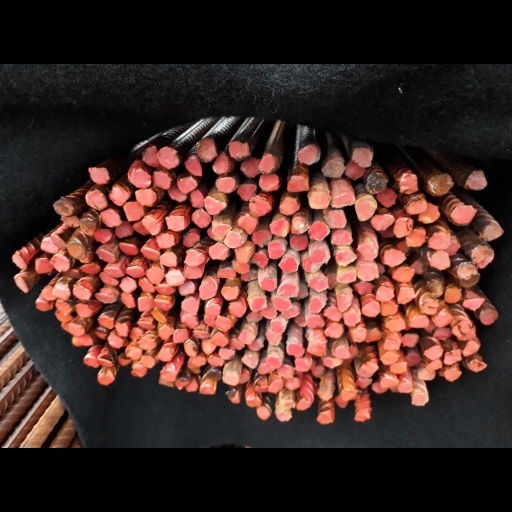dipstick: (451, 262, 481, 288), (426, 173, 454, 195), (79, 207, 101, 235), (449, 204, 478, 225), (194, 137, 218, 162), (469, 245, 494, 268), (418, 201, 441, 225), (355, 197, 377, 222), (435, 235, 461, 256), (321, 157, 345, 179), (427, 249, 451, 271), (331, 187, 356, 208), (211, 151, 232, 176), (355, 260, 380, 281), (365, 172, 387, 195), (239, 156, 261, 179), (157, 146, 179, 169), (248, 195, 272, 216), (403, 196, 429, 215), (298, 144, 320, 166), (376, 186, 398, 208), (397, 173, 420, 194), (300, 252, 323, 273), (127, 169, 151, 189), (228, 140, 250, 161), (352, 146, 373, 168), (465, 170, 487, 191), (393, 217, 415, 238), (237, 212, 258, 234), (85, 189, 107, 210), (142, 145, 162, 168), (123, 201, 146, 221), (52, 196, 75, 216), (427, 232, 451, 251), (382, 248, 406, 267), (370, 213, 395, 231), (183, 155, 204, 176), (405, 227, 426, 248), (433, 307, 454, 328), (109, 184, 130, 205), (257, 152, 277, 174), (345, 160, 367, 180), (204, 196, 226, 216), (324, 210, 347, 229), (87, 166, 110, 185), (336, 287, 353, 312), (190, 208, 211, 228), (308, 191, 331, 209), (236, 183, 259, 201), (286, 175, 310, 192), (330, 229, 354, 246), (95, 288, 119, 305), (291, 214, 311, 234), (141, 215, 161, 235), (279, 197, 300, 216), (268, 218, 289, 237), (443, 283, 462, 304), (308, 222, 330, 240), (356, 242, 378, 260), (451, 319, 473, 337), (258, 174, 281, 191), (392, 266, 415, 283), (134, 189, 157, 206), (65, 242, 88, 259), (152, 171, 172, 190), (50, 253, 70, 272), (482, 224, 503, 242), (375, 285, 396, 303), (361, 300, 382, 318), (309, 245, 330, 263), (100, 208, 121, 226), (333, 250, 358, 265), (176, 176, 198, 193), (462, 295, 484, 312), (322, 305, 344, 322), (335, 268, 358, 284), (356, 361, 379, 377), (187, 189, 206, 208), (396, 286, 415, 305), (166, 267, 185, 286), (419, 298, 439, 316), (289, 233, 309, 251), (167, 185, 188, 202), (324, 322, 345, 339), (423, 344, 444, 361), (293, 355, 314, 372), (184, 249, 205, 266), (165, 215, 186, 232), (34, 257, 55, 274), (215, 177, 237, 193), (426, 278, 444, 297), (480, 307, 498, 326), (343, 308, 361, 327), (266, 241, 285, 259), (208, 242, 227, 260), (347, 326, 366, 344), (180, 295, 198, 314), (182, 228, 200, 247), (53, 282, 71, 301), (72, 283, 91, 301), (309, 275, 329, 292), (250, 251, 270, 268), (180, 312, 200, 329), (60, 323, 86, 336), (323, 266, 337, 290), (277, 282, 298, 298), (154, 293, 175, 309), (94, 248, 116, 263), (225, 230, 243, 248), (124, 343, 142, 361), (119, 275, 137, 293), (159, 251, 178, 268), (40, 236, 59, 253), (384, 318, 407, 332), (352, 281, 375, 295), (79, 262, 102, 276), (278, 257, 298, 273), (251, 230, 271, 246), (237, 329, 257, 345), (227, 301, 247, 317), (183, 263, 203, 279), (211, 223, 232, 238), (305, 313, 326, 328), (155, 233, 176, 248), (98, 271, 119, 286), (433, 327, 455, 341), (408, 314, 430, 328), (466, 359, 488, 373), (321, 355, 343, 369), (234, 246, 252, 263), (462, 340, 480, 357), (264, 330, 282, 347), (198, 379, 216, 396), (13, 276, 30, 294), (137, 277, 155, 294), (146, 267, 164, 284), (49, 232, 67, 249), (182, 339, 198, 358), (198, 283, 217, 299), (115, 222, 134, 238), (97, 370, 116, 386), (382, 337, 402, 352), (285, 343, 305, 358), (294, 307, 309, 327), (272, 296, 292, 311), (140, 246, 160, 261), (442, 368, 463, 382), (379, 351, 400, 365), (340, 387, 361, 401), (444, 349, 461, 366), (404, 350, 421, 367), (225, 387, 242, 404), (409, 258, 427, 274), (259, 275, 277, 291), (211, 332, 229, 348), (214, 315, 232, 331), (177, 279, 195, 295), (107, 330, 123, 348), (137, 296, 155, 312), (93, 228, 111, 244), (154, 282, 176, 295), (231, 259, 250, 274), (353, 407, 372, 422), (316, 410, 335, 425), (132, 220, 151, 235), (35, 296, 54, 311), (96, 314, 115, 329), (307, 342, 327, 356), (389, 361, 409, 375), (280, 304, 300, 318), (248, 296, 268, 310), (221, 286, 241, 300), (191, 328, 211, 342), (118, 242, 138, 256), (308, 296, 324, 313), (365, 327, 382, 343), (255, 404, 271, 421), (257, 358, 274, 374), (131, 362, 148, 378), (151, 307, 168, 323), (276, 363, 294, 378), (259, 304, 277, 319), (221, 370, 239, 385), (227, 336, 245, 351), (75, 303, 93, 318), (379, 301, 398, 315), (332, 345, 351, 359), (316, 387, 335, 401), (274, 408, 293, 422), (138, 337, 157, 351), (71, 334, 93, 346), (417, 368, 437, 381), (380, 375, 400, 388), (267, 379, 287, 392), (59, 215, 79, 228), (113, 321, 129, 337), (120, 292, 136, 308), (293, 283, 308, 300), (402, 333, 419, 348), (269, 319, 286, 334), (186, 357, 201, 374), (172, 328, 189, 343), (11, 254, 28, 269), (237, 368, 251, 386), (55, 300, 73, 314), (240, 355, 259, 368), (126, 265, 145, 278), (103, 267, 125, 278), (423, 319, 439, 334), (253, 378, 269, 393), (158, 325, 173, 341), (40, 285, 56, 300), (157, 348, 174, 362), (410, 393, 428, 406), (370, 381, 388, 394), (355, 376, 373, 389), (244, 395, 262, 408), (208, 354, 226, 367), (218, 346, 236, 359), (216, 267, 235, 279), (183, 378, 198, 393), (201, 339, 216, 354), (118, 352, 133, 367), (333, 394, 349, 408), (396, 381, 413, 394), (265, 356, 282, 369), (246, 310, 263, 323), (204, 304, 221, 317), (139, 355, 156, 368), (128, 327, 145, 340), (425, 359, 443, 371), (246, 339, 264, 351), (159, 369, 177, 381), (280, 395, 295, 409), (202, 313, 217, 327), (136, 320, 157, 330), (93, 326, 109, 339), (240, 269, 257, 281), (54, 312, 74, 322), (296, 397, 310, 411), (312, 363, 325, 378), (285, 378, 301, 390), (82, 357, 99, 368), (156, 379, 176, 388), (98, 356, 113, 368), (174, 379, 190, 390), (190, 355, 206, 366)
